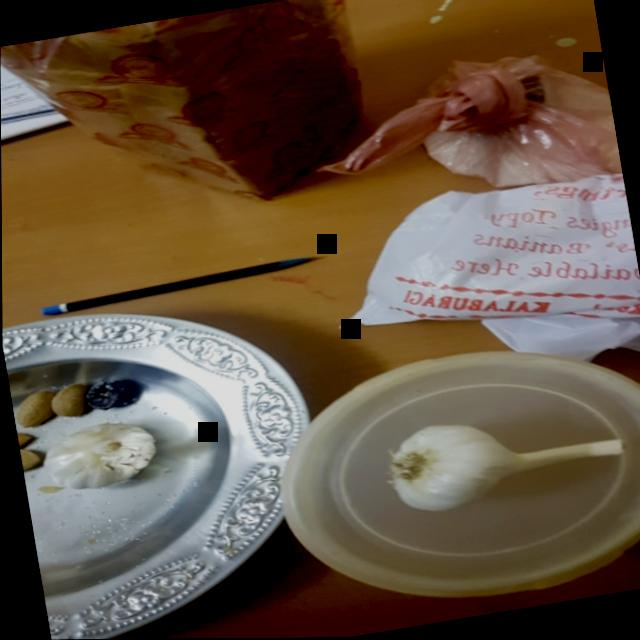garlic: (368, 388, 631, 528)
